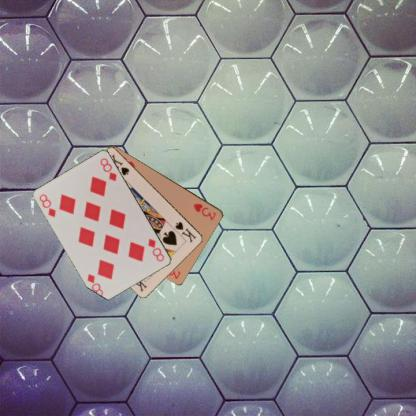3h: (190, 200, 218, 222)
8d: (146, 236, 166, 263), (37, 192, 57, 219)
Ks: (172, 219, 198, 244)
